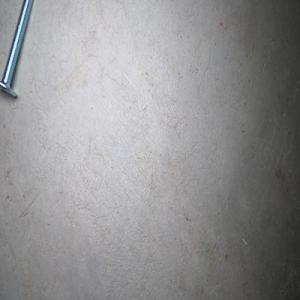Bolt: (0, 0, 34, 98)
